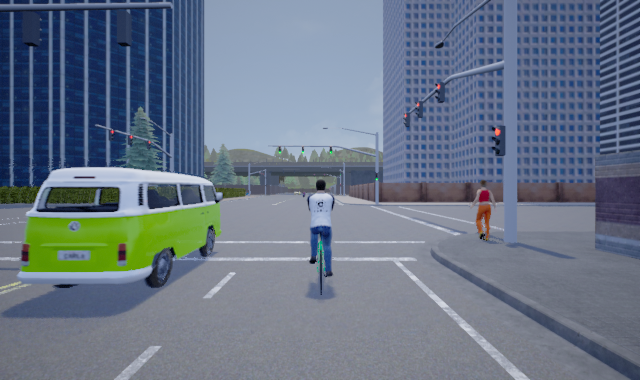bike: (307, 179, 335, 300)
pedestrian: (469, 180, 495, 241)
vehicle: (17, 167, 221, 287)
